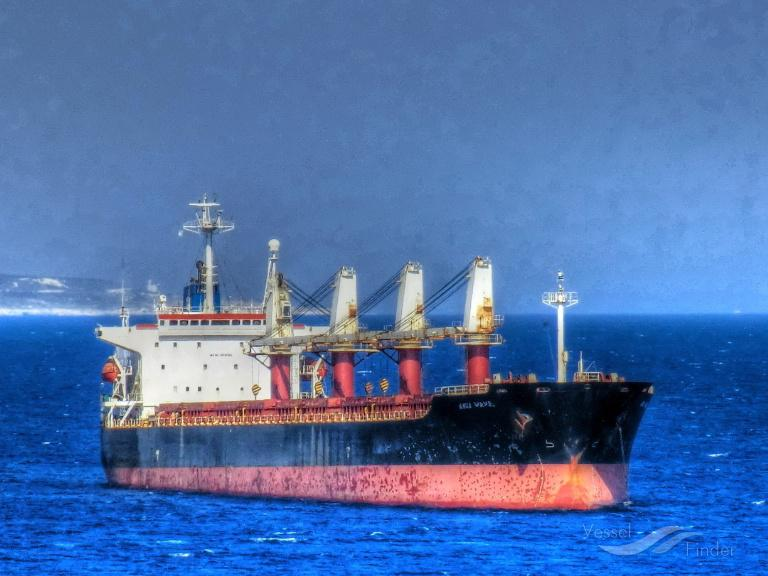OCR: (454, 396, 496, 414)
